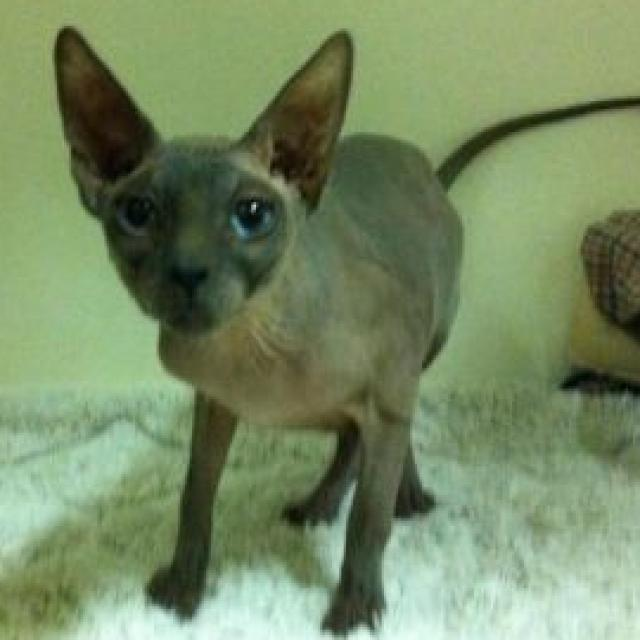Sphynx: (50, 15, 640, 640)
